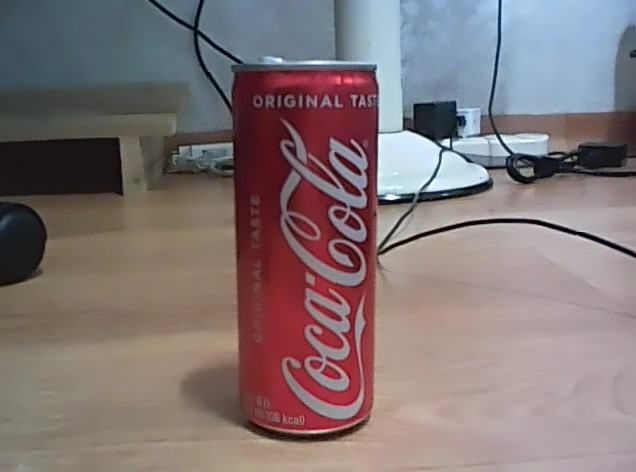Can: (225, 53, 385, 439)
